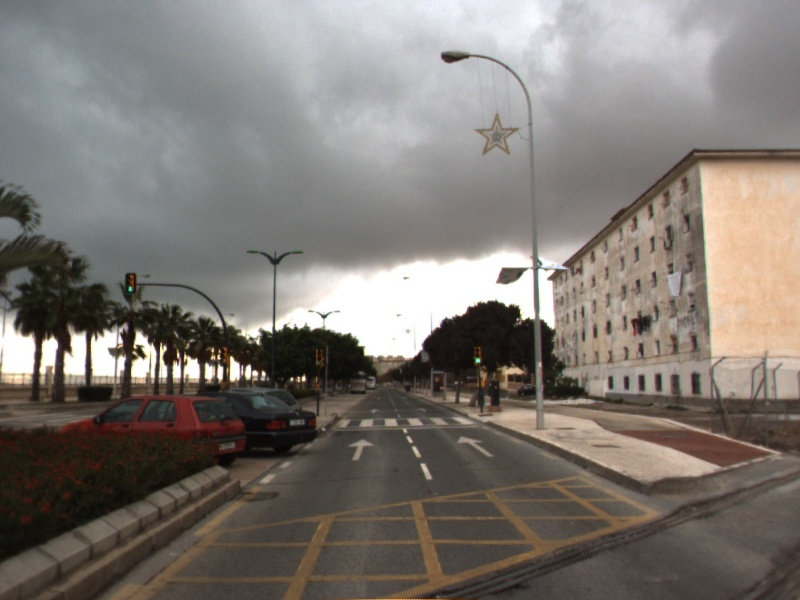STRAIGHT: (455, 434, 497, 459), (346, 437, 376, 463)
